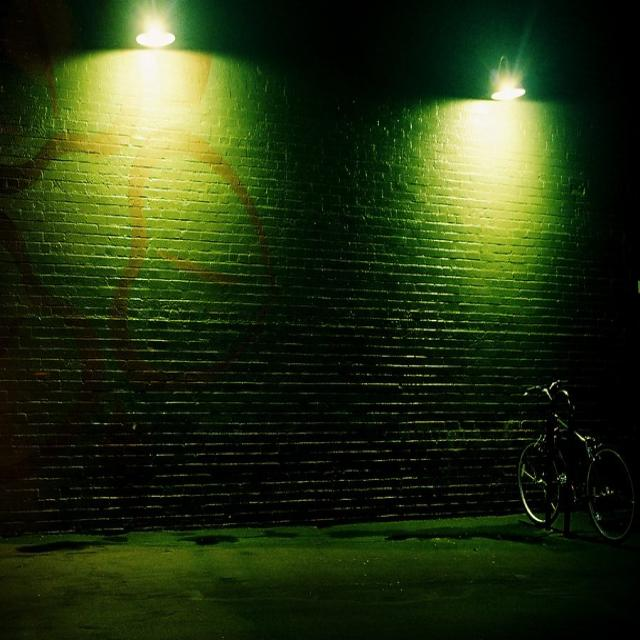Bicycle: (510, 362, 640, 590)
